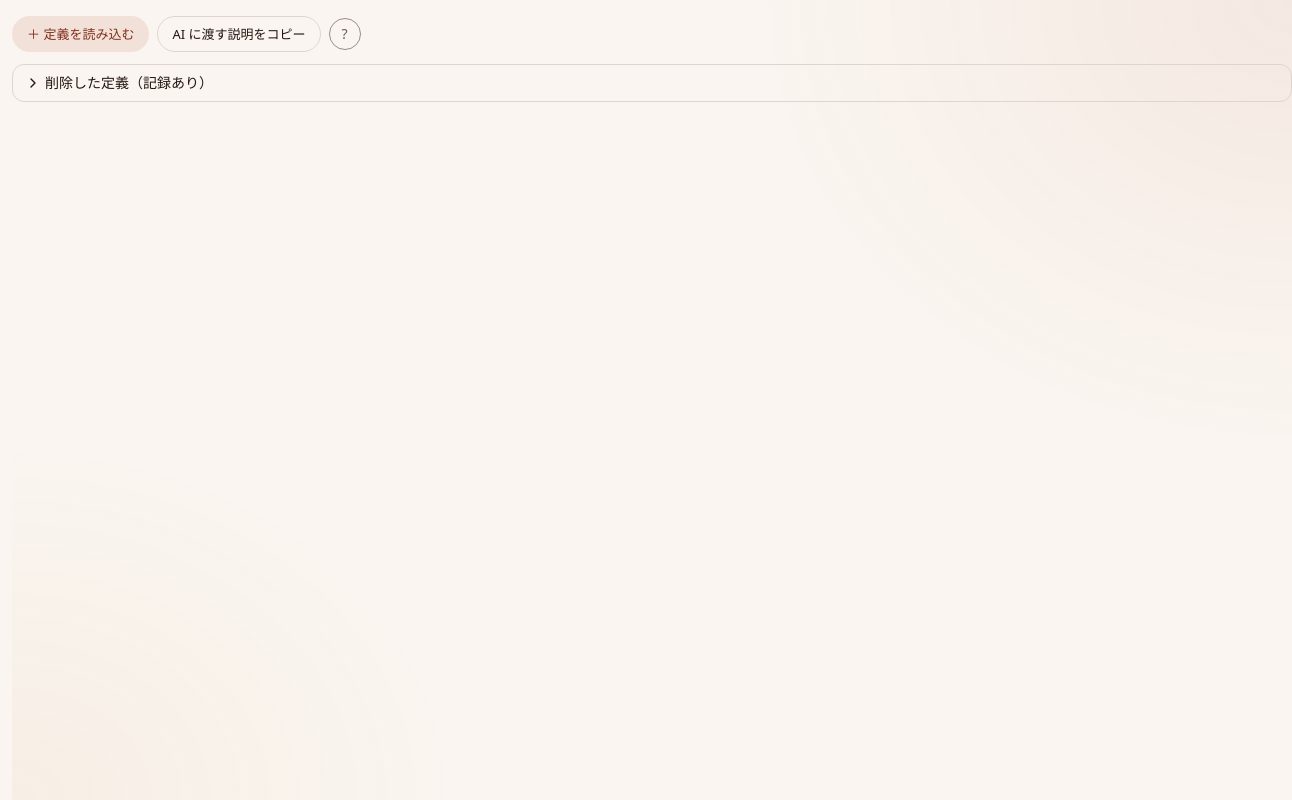
Scenario: CustomTypesSettings › shows a message when restoring fails
The width and height of the screenshot is (1292, 800).
Click the heading "削除した定義（記録あり）". click: (119, 82)
box: [25,73,213,92]
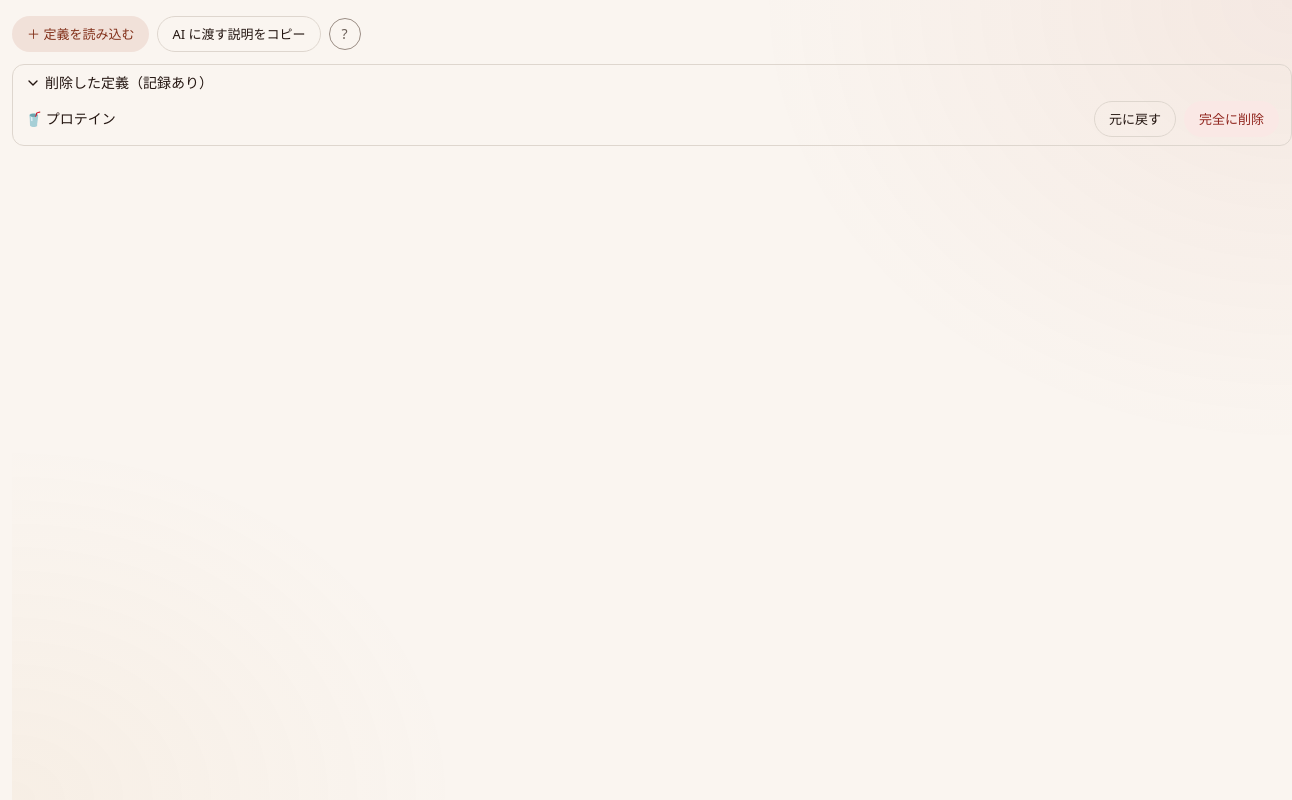
Click the button "元に戻す". click: (1135, 119)
box: [1094,101,1176,137]
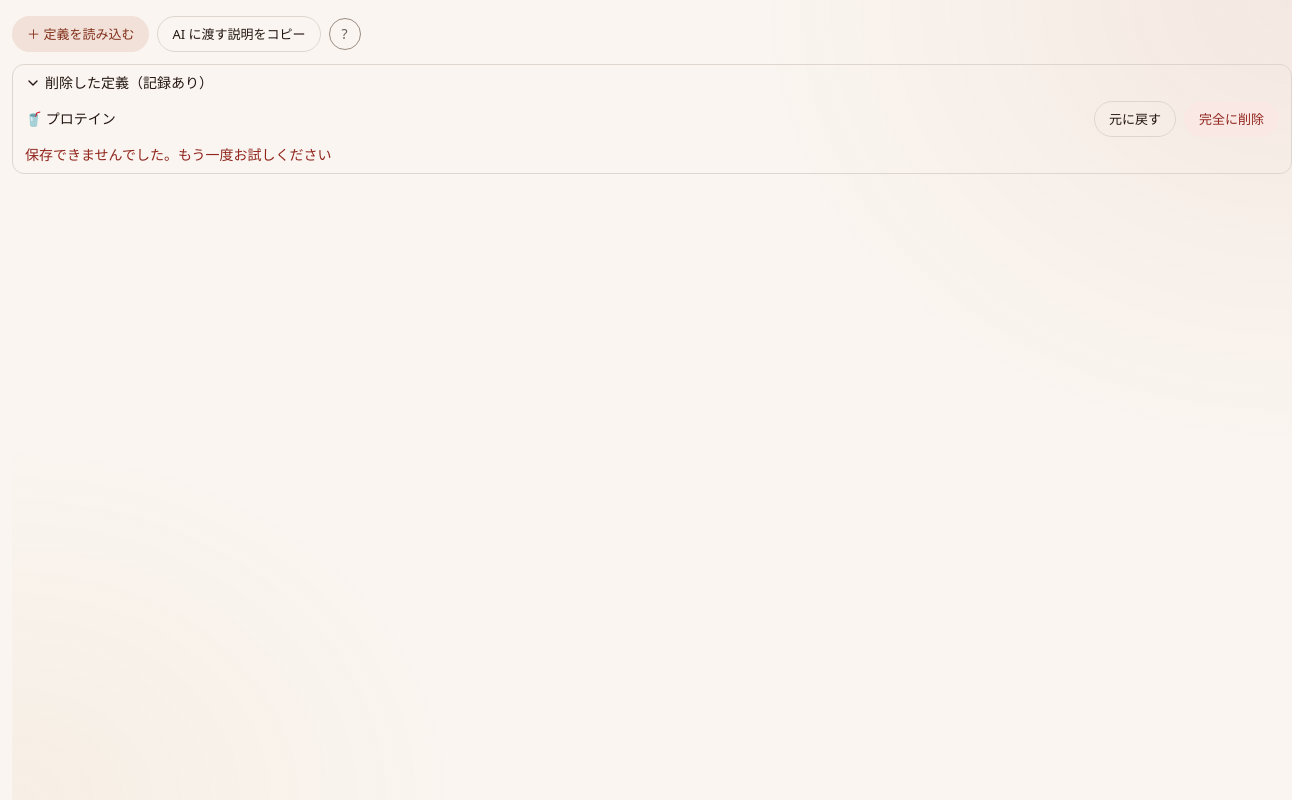
Expected: the text "保存できませんでした。もう一度お試しください" is shown, [25,145,332,164]
